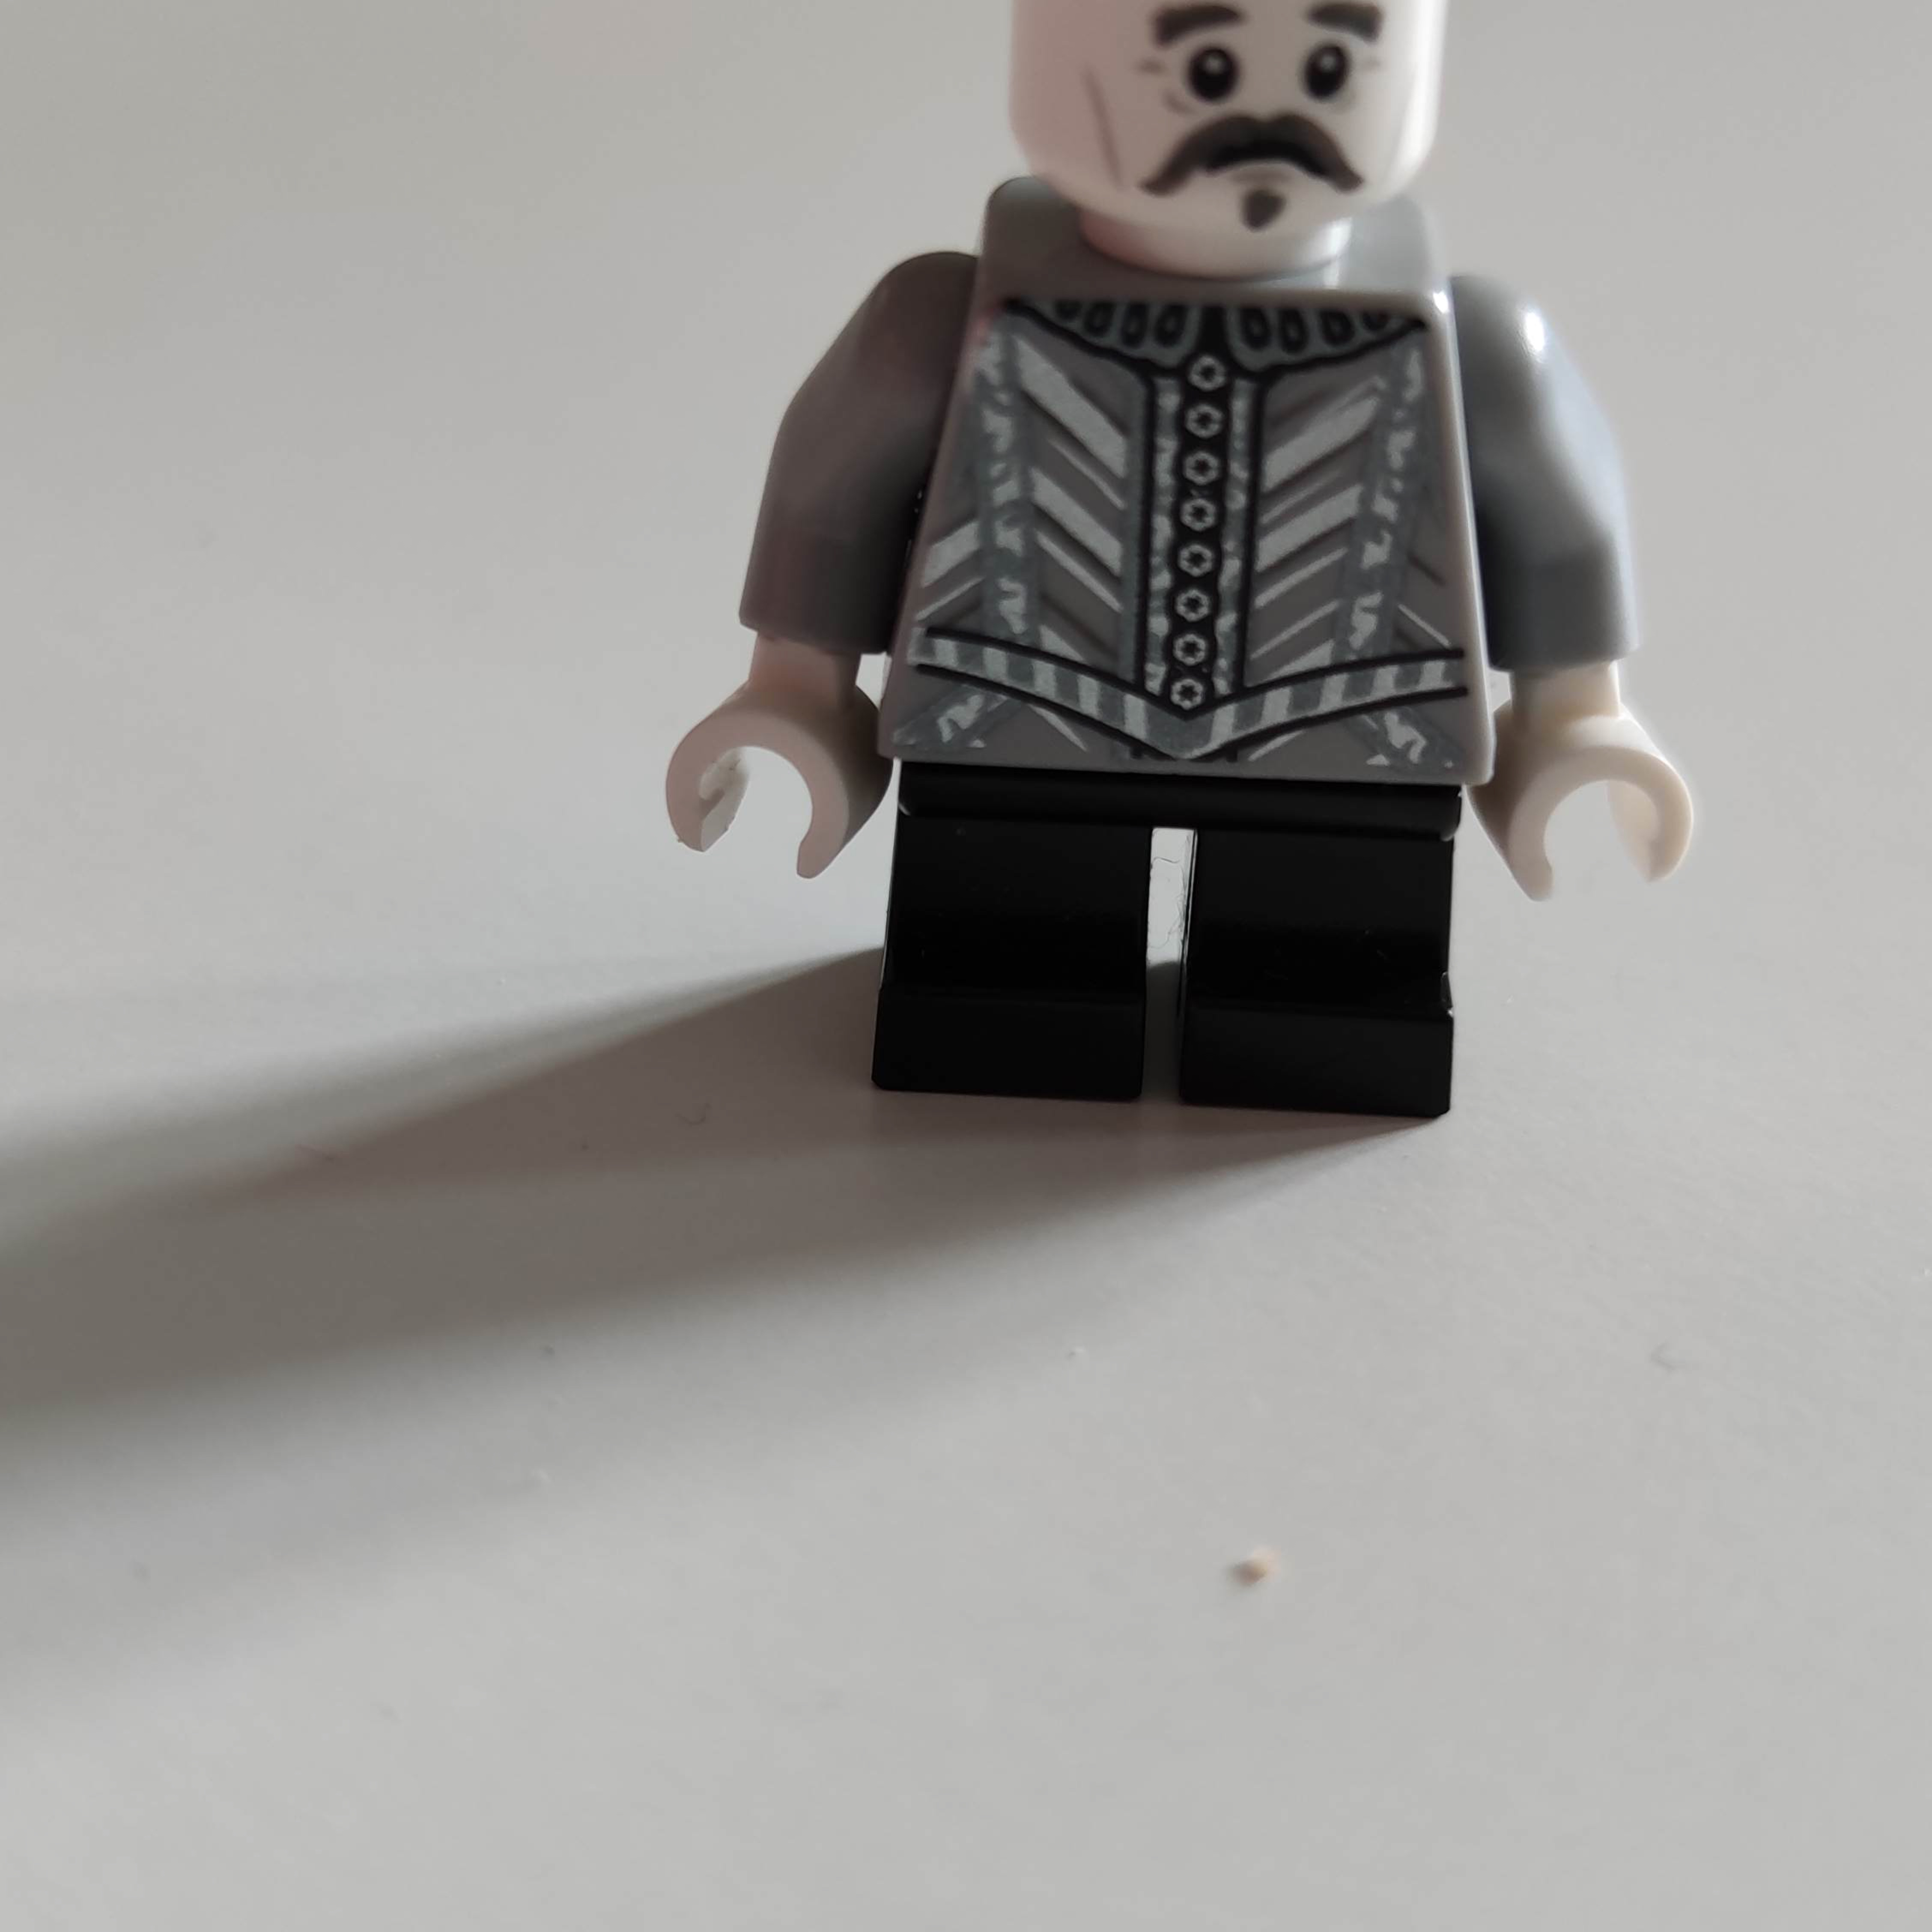lego: (667, 0, 1695, 1118)
